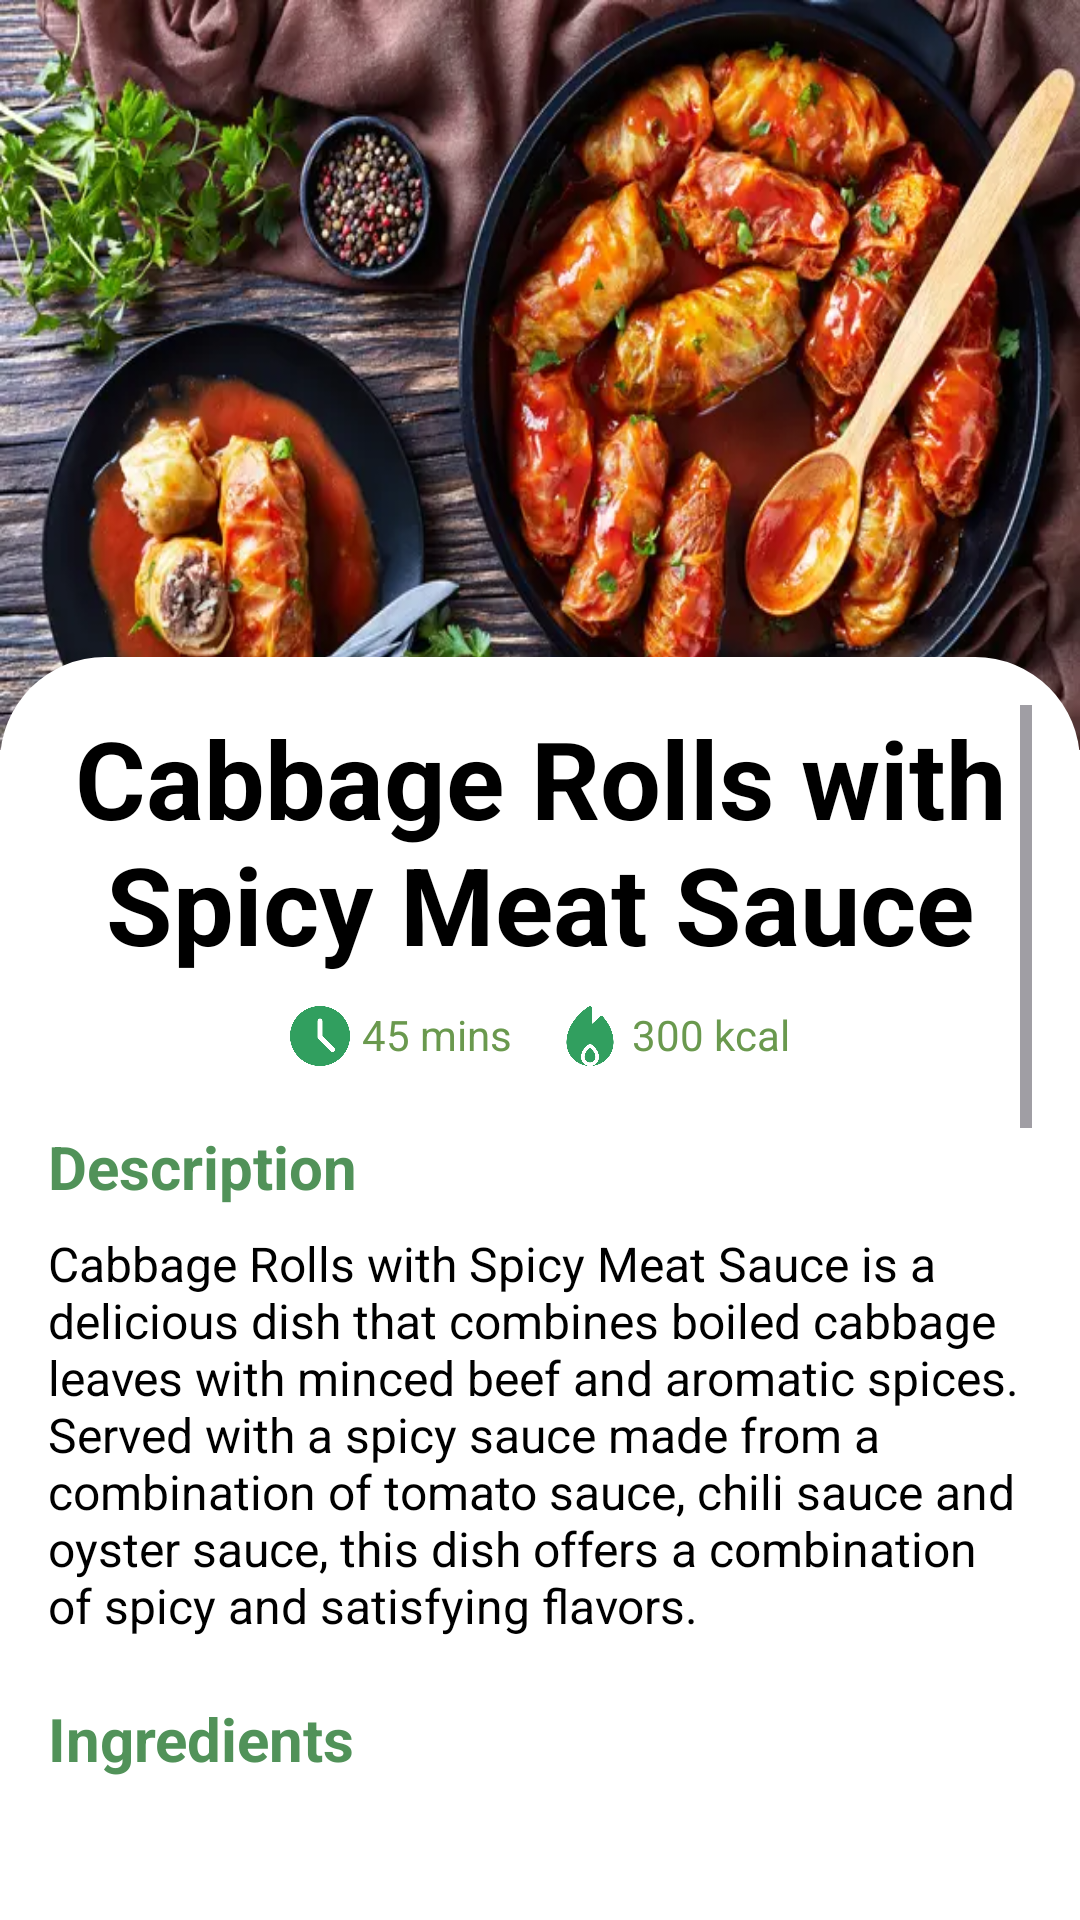

Icon bounding boxes for this 1080 × 1920 phone screenshot, format (x1, y1, x2, y2):
calicon: (566, 1006, 614, 1066)
timeicon: (290, 1006, 350, 1066)
